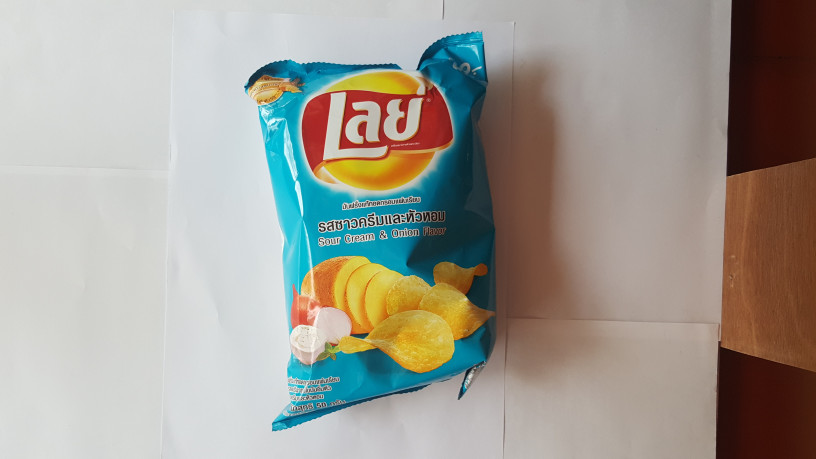lays-onion: (230, 29, 513, 442)
